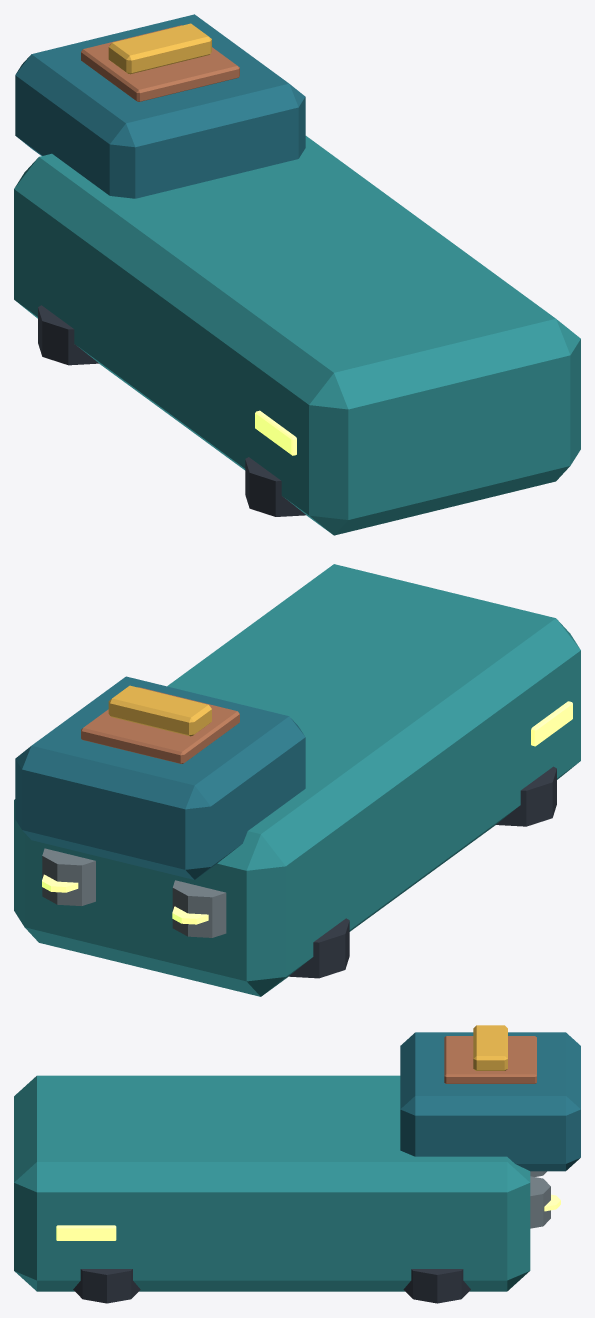
The model's file is vehicles_013_seed11.glb.
The picture shows the model from 3 angles, top to bottom: view 1: azimuth 30°, elevation 25°; view 2: azimuth 150°, elevation 25°; view 3: azimuth 270°, elevation 25°; orthographic projection. The views are drawn at different scales.
Parts seen in each view (by area): view 1: vehicles_013_seed11; view 2: vehicles_013_seed11; view 3: vehicles_013_seed11.
Boxes of the visible parts, left/top/right/bottom form: vehicles_013_seed11: left=14, top=14, right=580, bottom=535; vehicles_013_seed11: left=14, top=564, right=580, bottom=996; vehicles_013_seed11: left=14, top=1025, right=580, bottom=1303.
Size of the model in its own units: 1.95 by 1.6 by 3.96.
